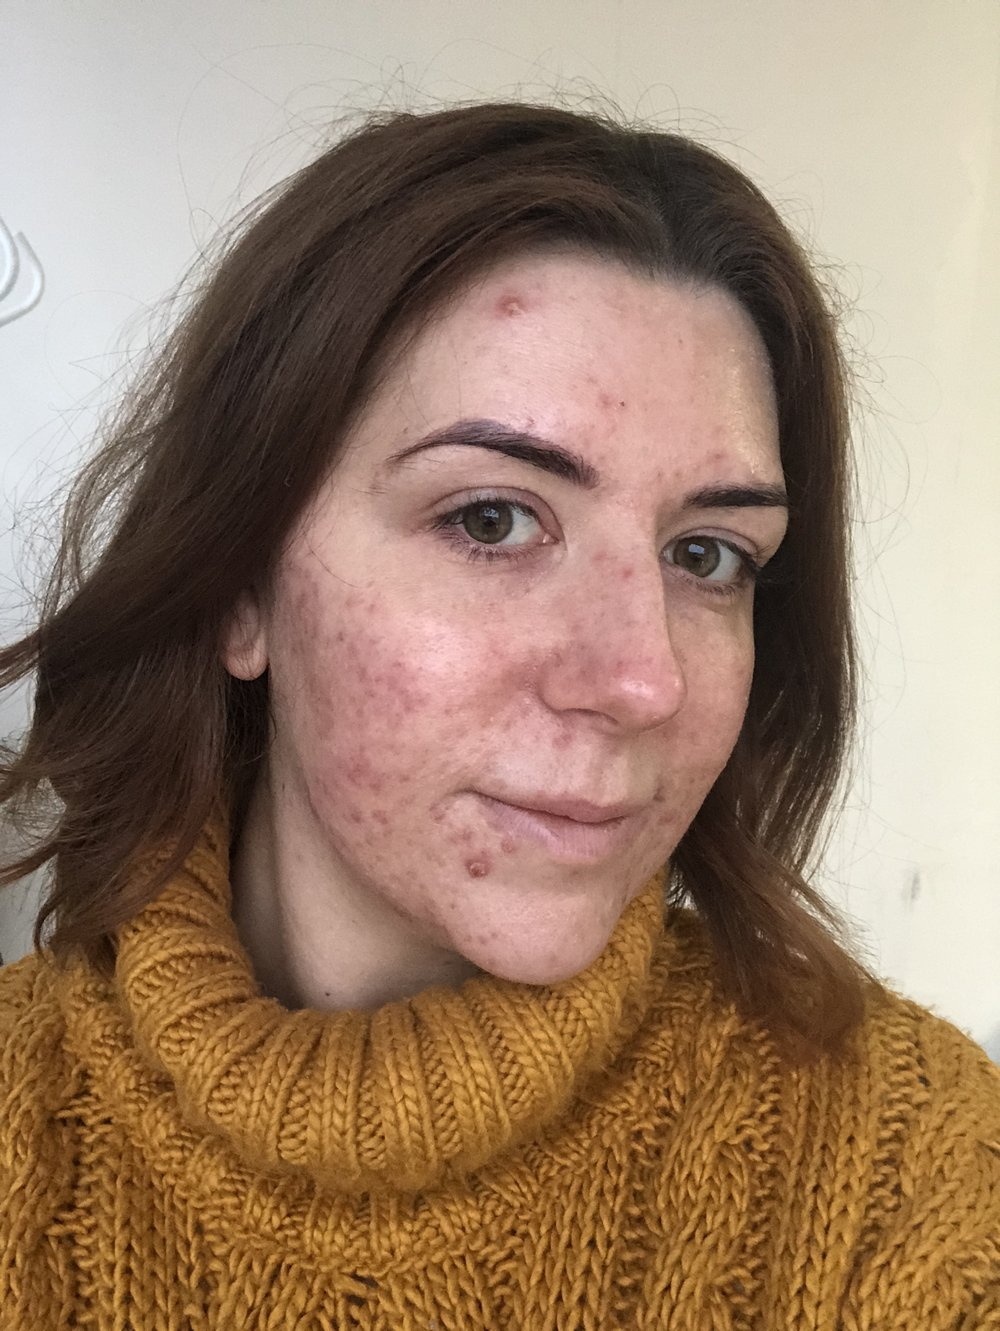acene: (363, 283, 763, 952)
